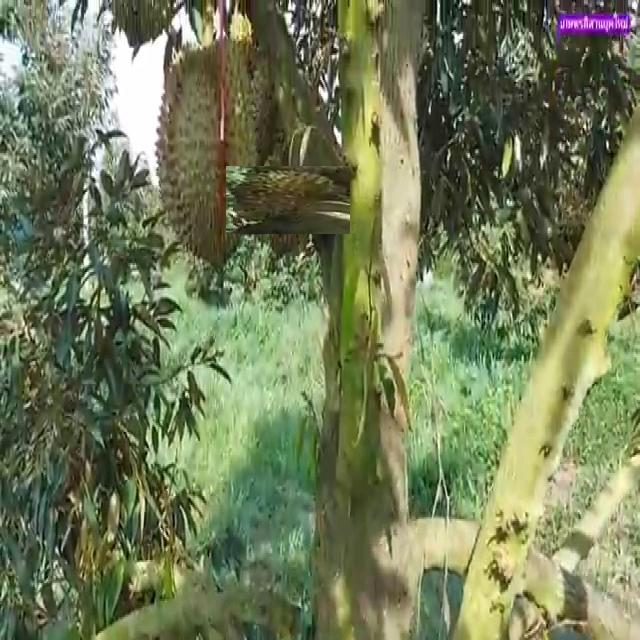durian: (154, 30, 276, 273), (240, 152, 336, 249)
